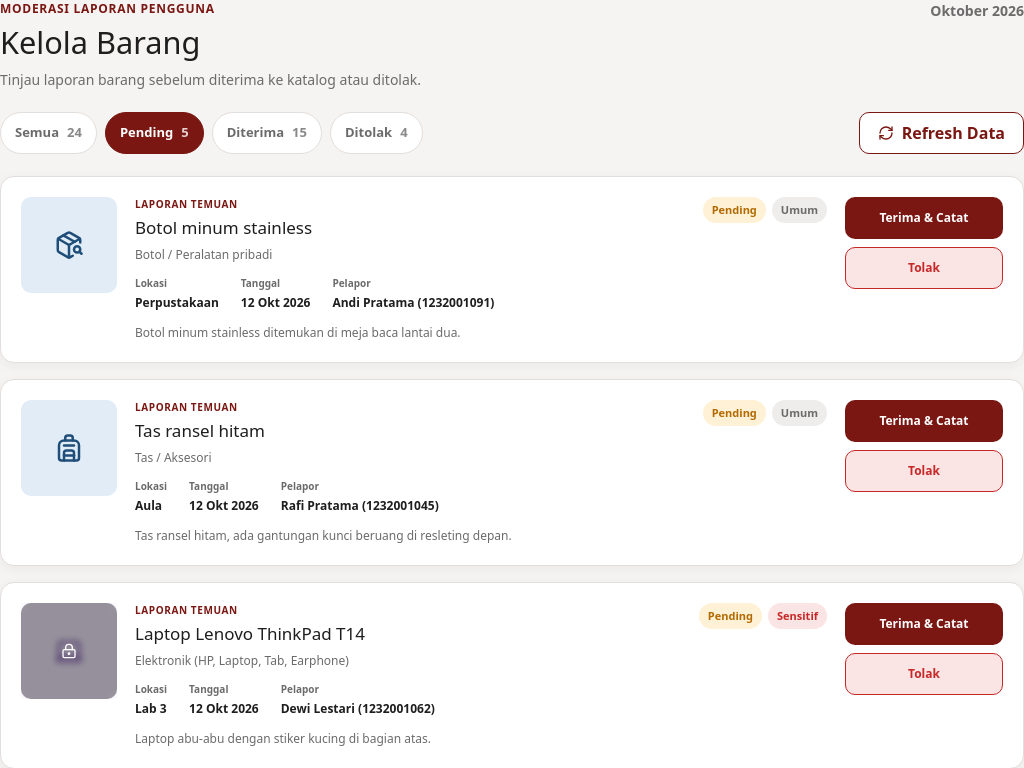
Test: ManageItemsPage › accepts a pending report in the local preview
The image size is (1024, 768).
What coordinates should you click on to do the following:
click the 2nd button "Terima & Catat"
I would click on:
 (924, 421)
Its box is [845,400,1003,442].
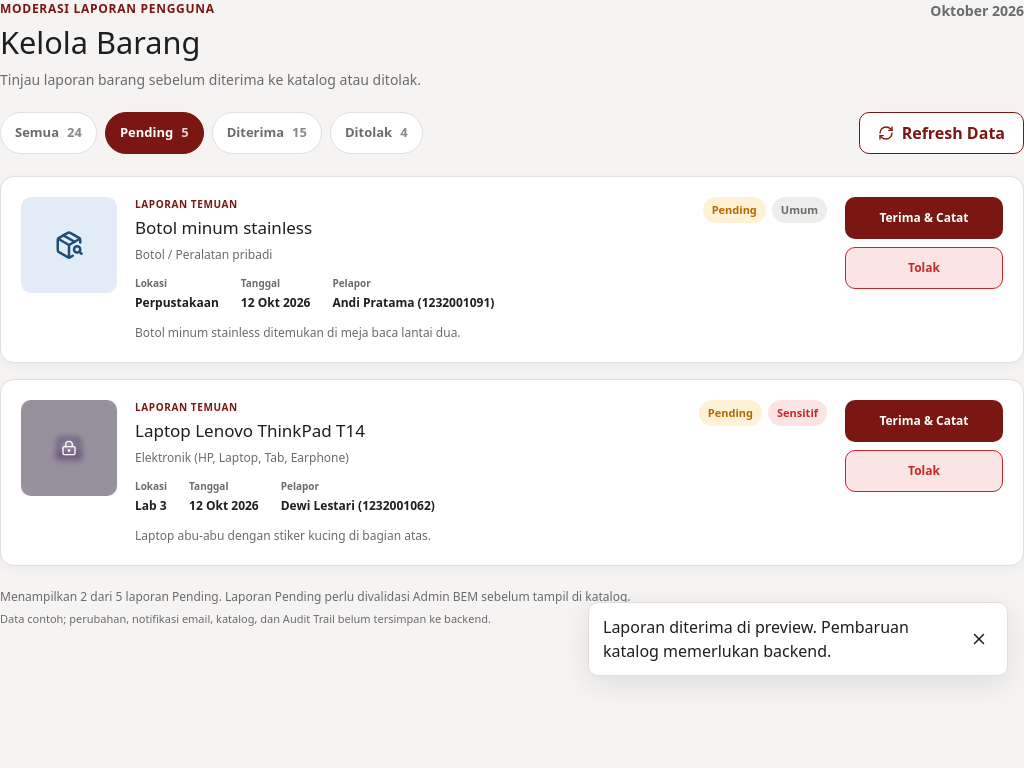
What coordinates should you click on to do the following:
click the tab "Diterima 15"
I would click on:
 (267, 133)
Its box is [212,112,322,154].
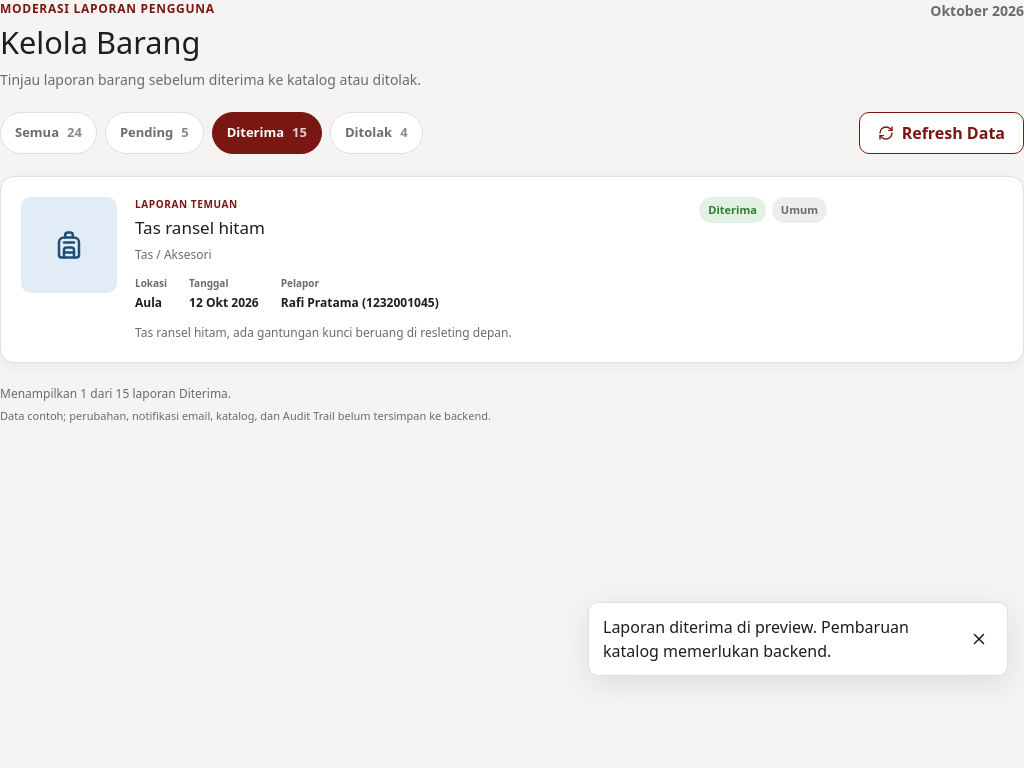
Expected: the text "Pembaruan katalog memerlukan backend" is shown, [603,616,909,662]
Expected: the text "Diterima" next to "Umum" is shown, [708,202,757,217]
